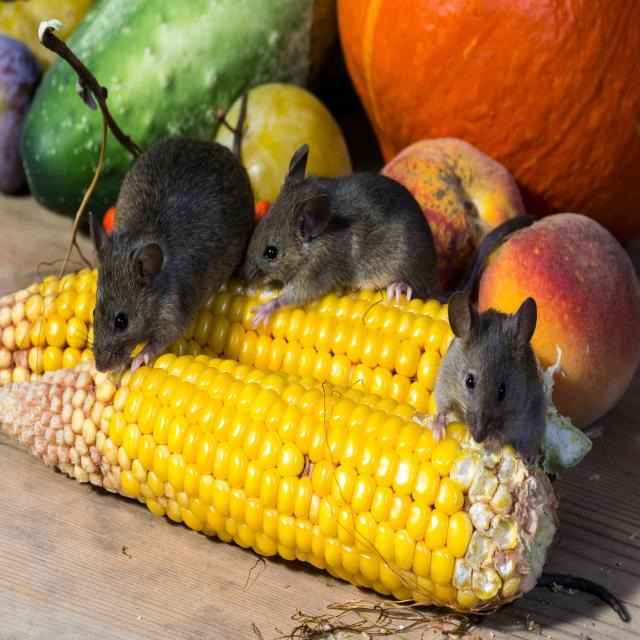rat: (60, 108, 254, 378), (235, 143, 434, 324), (418, 277, 560, 459)
